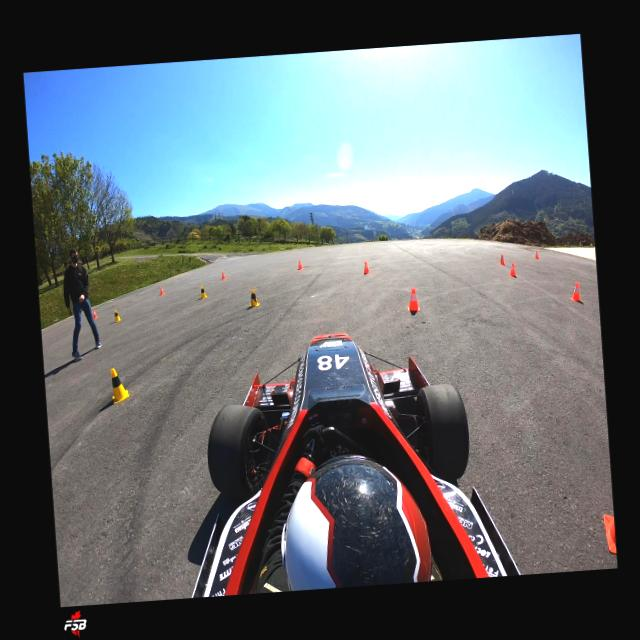orange_cone: (406, 287, 420, 311), (568, 282, 581, 302), (362, 260, 370, 274), (508, 262, 516, 276), (497, 253, 505, 264), (220, 270, 226, 279), (92, 308, 97, 318), (297, 260, 302, 270), (159, 286, 164, 294), (534, 250, 539, 258)
yellow_cone: (110, 366, 129, 404), (248, 288, 260, 307), (198, 284, 207, 298), (114, 308, 121, 322)
